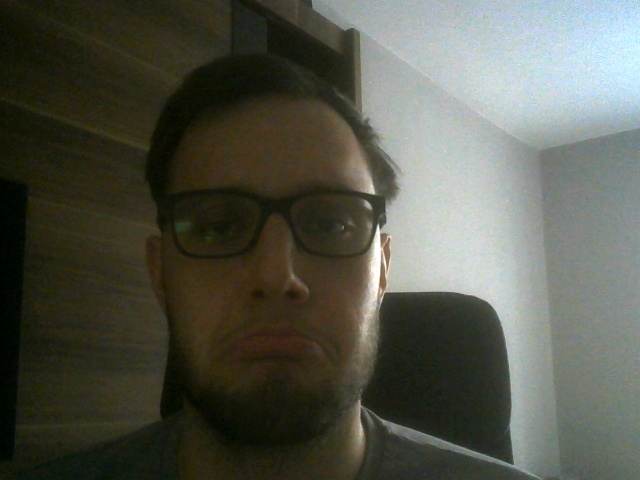neutral: (146, 55, 394, 445)
